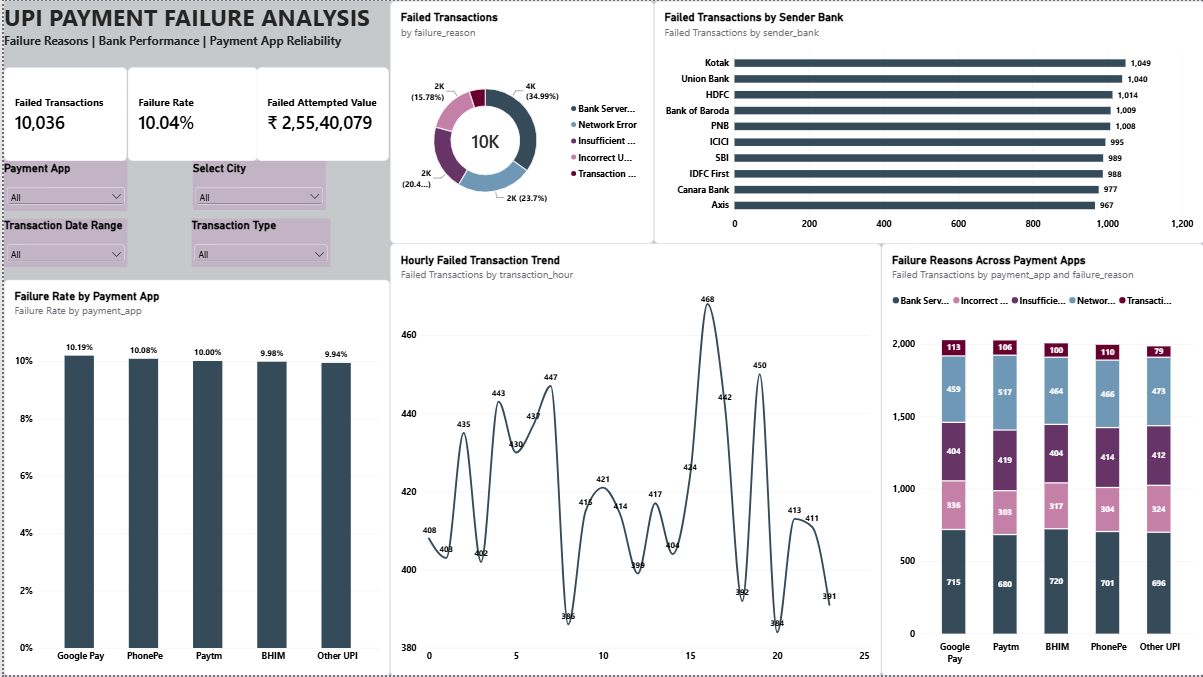

What the dashboard file says about the page in this screenshot:
{"tool":"powerbi","page":{"name":"Payment Failure Analysis","canvas":[1920,1080],"ordinal":1},"visuals":[{"type":"textbox","box":[0,0,600.8,106.8],"z":0},{"type":"cardVisual","fields":{"Data":["upi_transactions.Failed Transactions"]},"box":[0,106,197.5,150],"z":1000},{"type":"cardVisual","fields":{"Data":["upi_transactions.Failure Rate"]},"box":[197.8,106.4,208,150],"z":2000},{"type":"cardVisual","fields":{"Data":["upi_transactions.Failed Attempted Value"]},"box":[404.9,106.4,212.5,150],"z":3000},{"type":"donutChart","fields":{"Category":["upi_transactions.failure_reason"],"Y":["upi_transactions.Failed Transactions"]},"box":[617.6,0,421.7,388.1],"z":4000},{"type":"clusteredBarChart","title":"Failed Transactions by Sender Bank","fields":{"Category":["upi_transactions.sender_bank"],"Y":["upi_transactions.Failed Transactions"]},"box":[1039.3,0,880.7,388.1],"z":5000},{"type":"clusteredColumnChart","title":"Failure Rate by Payment App","fields":{"Category":["upi_transactions.payment_app"],"Y":["upi_transactions.Failure Rate"]},"box":[0,446,617.6,634.4],"z":6000},{"type":"columnChart","title":"Failure Reasons Across Payment Apps","fields":{"Category":["upi_transactions.payment_app"],"Series":["upi_transactions.failure_reason"],"Y":["upi_transactions.Failed Transactions"]},"box":[1404,388,516,692],"z":7000},{"type":"lineChart","title":"Hourly Failed Transaction Trend","fields":{"Category":["upi_transactions.transaction_hour"],"Y":["upi_transactions.Failed Transactions"]},"box":[617.6,388.1,785.6,692.3],"z":8000},{"type":"slicer","title":"Payment App","fields":{"Values":["upi_transactions.payment_app"]},"box":[0,255,197.5,80],"z":8001},{"type":"slicer","title":"Transaction Date Range","fields":{"Values":["upi_transactions.transaction_date"]},"box":[0,347.5,197.5,77.5],"z":8002},{"type":"slicer","title":"Select City","fields":{"Values":["upi_transactions.city"]},"box":[302.5,255,212.7,78.4],"z":8003},{"type":"slicer","title":"Transaction Type","fields":{"Values":["upi_transactions.transaction_type"]},"box":[300,347.5,222.5,77.5],"z":8004}]}

Visuals, with their boxes in screenshot pixels (x1, y1, x2, y2), scaled from the page's 1920x1080 canvas onto the 1203x677 screenshot:
textbox: (x1=0, y1=0, x2=376, y2=67)
cardVisual - upi_transactions.Failed Transactions: (x1=0, y1=66, x2=124, y2=160)
cardVisual - upi_transactions.Failure Rate: (x1=124, y1=67, x2=254, y2=161)
cardVisual - upi_transactions.Failed Attempted Value: (x1=254, y1=67, x2=387, y2=161)
donutChart - upi_transactions.failure_reason x upi_transactions.Failed Transactions: (x1=387, y1=0, x2=651, y2=243)
"Failed Transactions by Sender Bank" clusteredBarChart: (x1=651, y1=0, x2=1202, y2=243)
"Failure Rate by Payment App" clusteredColumnChart: (x1=0, y1=280, x2=387, y2=676)
"Failure Reasons Across Payment Apps" columnChart: (x1=880, y1=243, x2=1202, y2=676)
"Hourly Failed Transaction Trend" lineChart: (x1=387, y1=243, x2=879, y2=676)
"Payment App" slicer: (x1=0, y1=160, x2=124, y2=210)
"Transaction Date Range" slicer: (x1=0, y1=218, x2=124, y2=266)
"Select City" slicer: (x1=190, y1=160, x2=323, y2=209)
"Transaction Type" slicer: (x1=188, y1=218, x2=327, y2=266)
